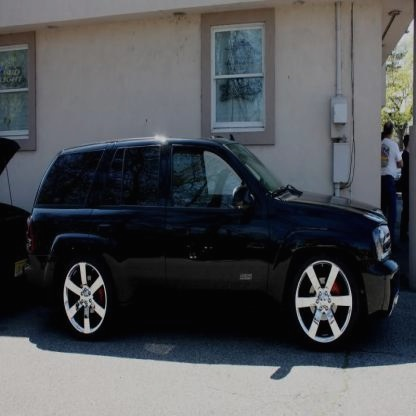Vehicle: (24, 134, 402, 358)
